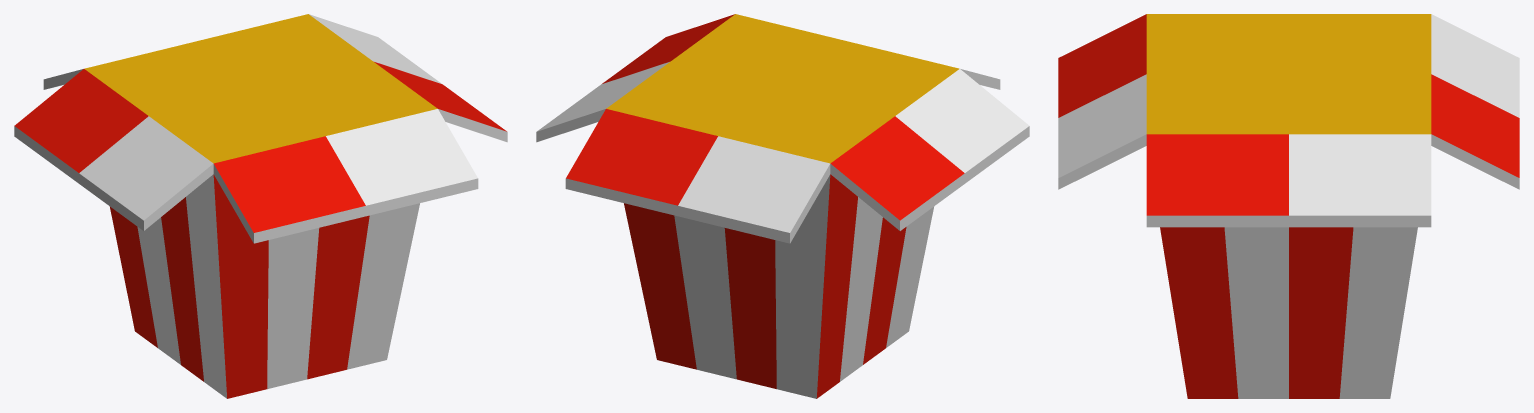
The model's file is popcorn.fbx.
The picture shows the model from 3 angles, left to right: view 1: azimuth 30°, elevation 25°; view 2: azimuth 150°, elevation 25°; view 3: azimuth 270°, elevation 25°; orthographic projection. The views are drawn at different scales.
Parts seen in each view (by area): view 1: Cube; view 2: Cube; view 3: Cube.
Part boxes in pixels (x1,y1,x2,y2): Cube: (14, 14, 507, 398); Cube: (536, 14, 1029, 398); Cube: (1058, 14, 1519, 398).
Bounding box in the file's own units: 226 × 152 × 226.
